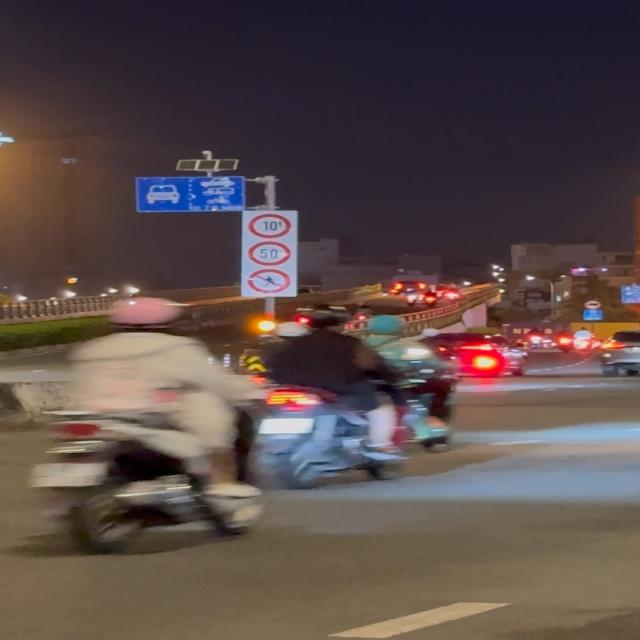Bien bao cam nguoi di bo: (248, 268, 290, 294)
Bien bao toc do toi da cho phep: (247, 240, 290, 267)
